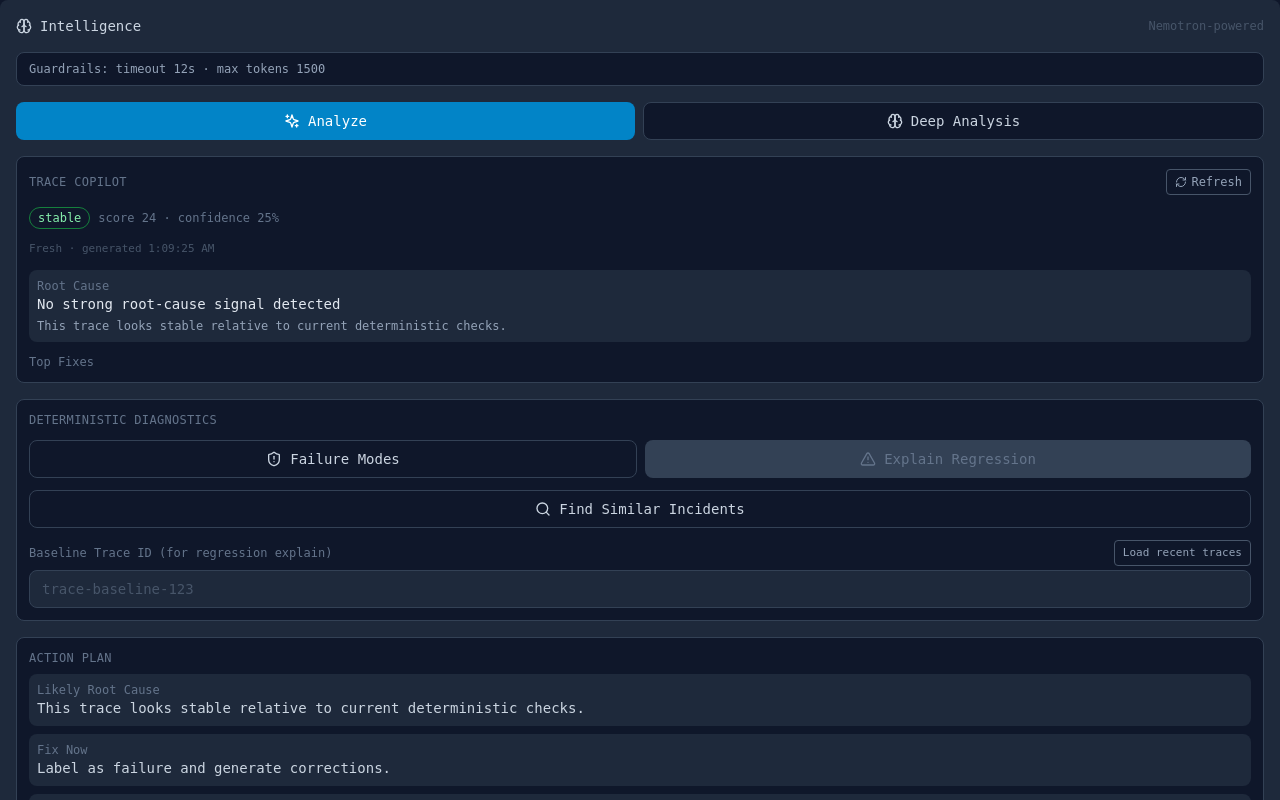
Test: IntelligencePanel deterministic diagnostics › applies retry cooldown when analyze is rate limited
The width and height of the screenshot is (1280, 800).
Click the button with aria-label "Analyze trace with Nemotron".
click(326, 121)  # box [16,102,635,140]
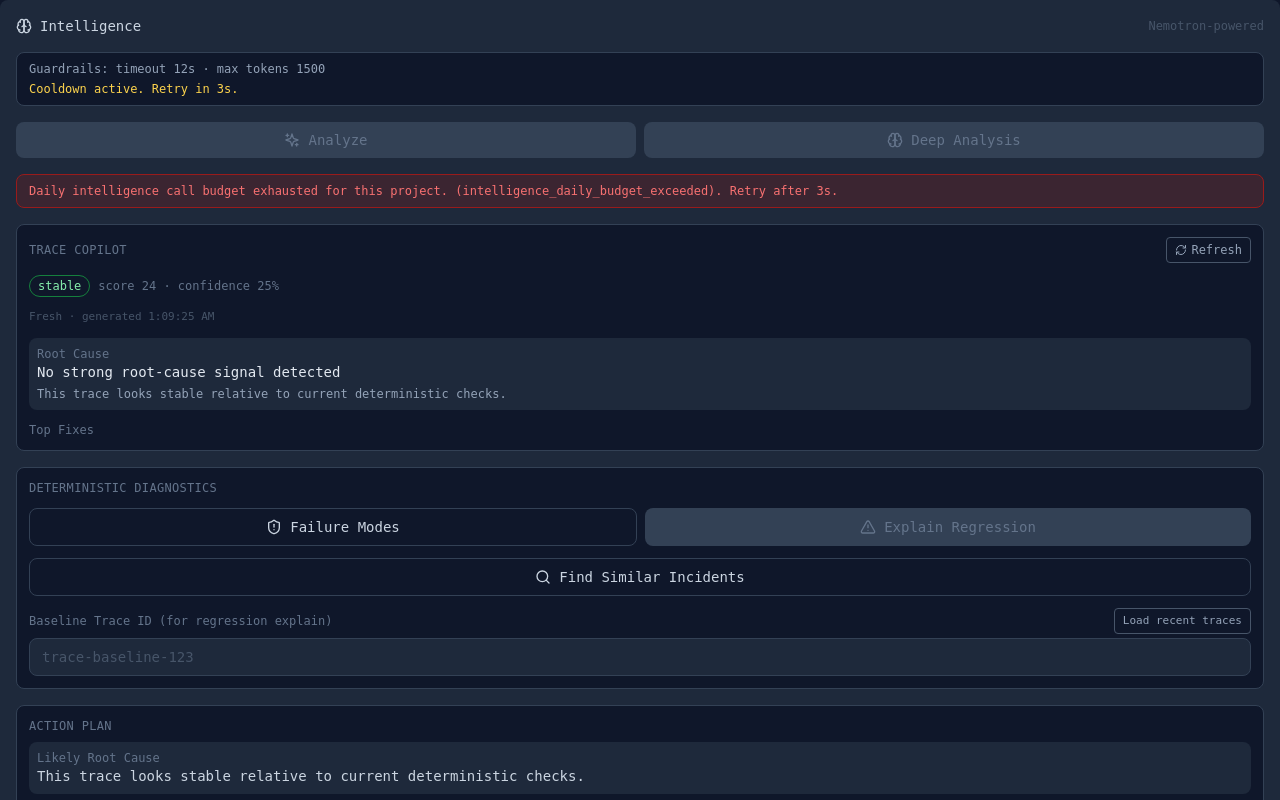
expect the text "Cooldown active. Retry in 3s." is shown: met, box [29,82,238,96]
expect the button with aria-label "Analyze trace with Nemotron" is disabled: met, box [16,122,636,158]
expect the text "Daily intelligence call budget exhausted for this project" is shown: met, box [29,184,838,198]
